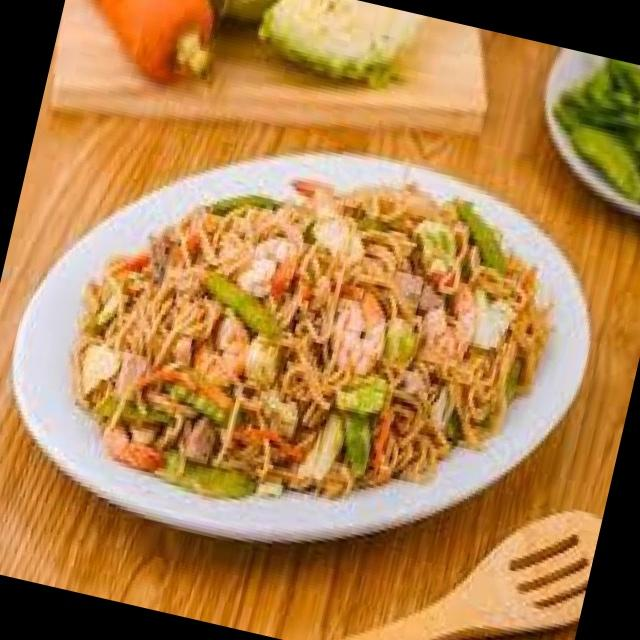pancit bihon: (81, 191, 546, 491)
